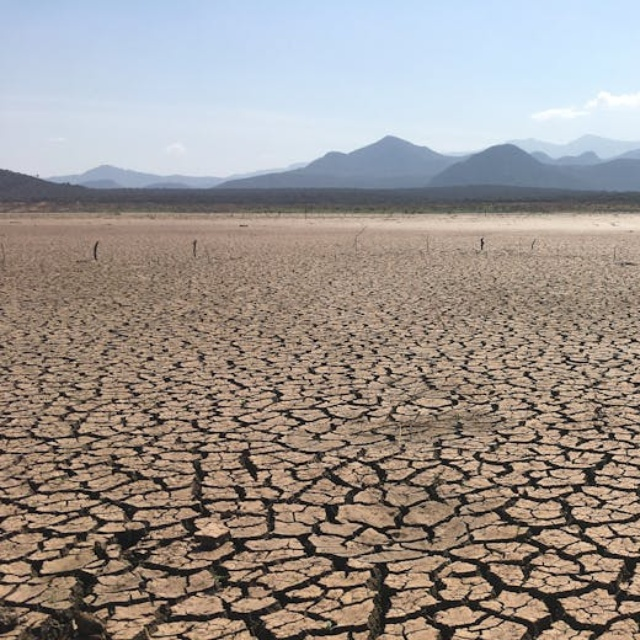网状裂隙: (290, 0, 640, 388), (268, 0, 529, 467), (412, 0, 640, 461), (109, 0, 270, 434), (75, 0, 206, 428), (10, 0, 120, 427), (47, 0, 145, 429), (546, 0, 640, 446)
